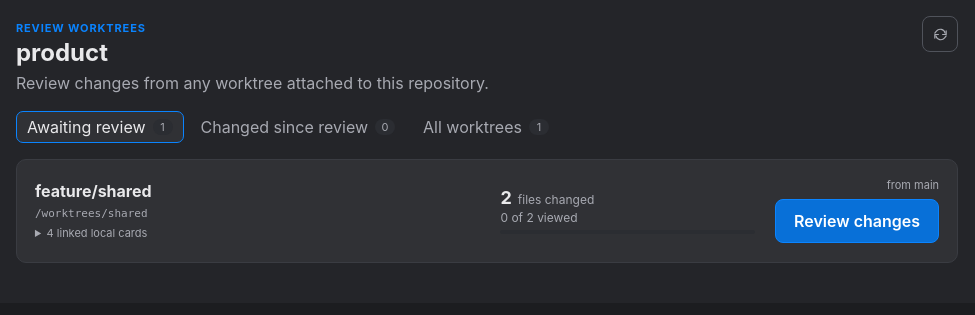
Test: worktree review queue › collapses long linked-card history until requested
Expected: the text "Linked card 4" is not shown
Step 1. Click the heading "4 linked local cards" → point(91, 233), box [35,226,147,240]
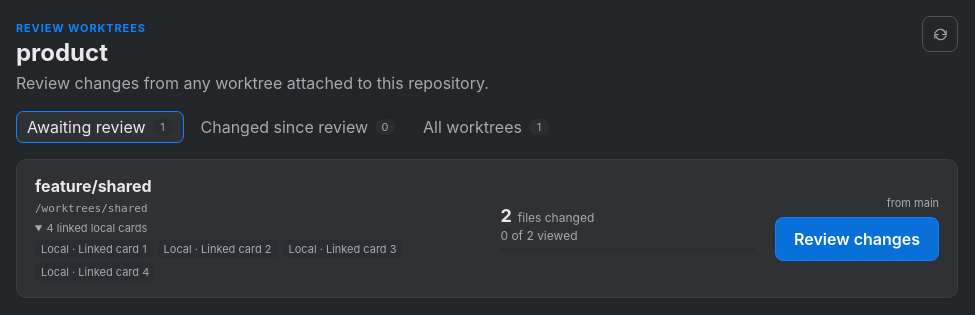
Expected: the text "Local · Linked card 4" is shown, [35,263,155,281]
